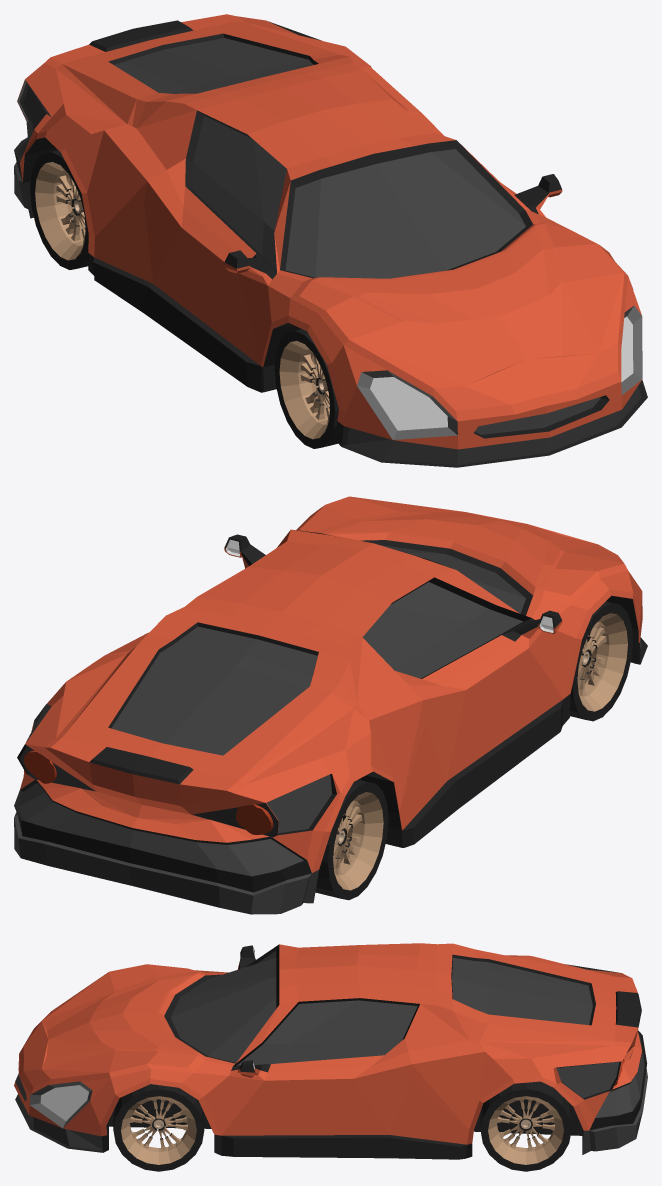
The model's file is alfaromeo33stradaleice.fbx.
The picture shows the model from 3 angles, top to bottom: view 1: azimuth 30°, elevation 25°; view 2: azimuth 150°, elevation 25°; view 3: azimuth 270°, elevation 25°; orthographic projection. The views are drawn at different scales.
Parts seen in each view (by area): view 1: RedBody, FrontRight, BackRight; view 2: RedBody, BackRight, FrontRight; view 3: RedBody, BackLeft, FrontLeft.
Boxes of the visible parts, x1,y1,x2,y2 form: RedBody: (14,14,647,467); FrontRight: (274,329,338,448); BackRight: (30,150,88,269); RedBody: (14,496,647,914); BackRight: (315,779,388,900); FrontRight: (570,601,632,721); RedBody: (14,943,647,1159); BackLeft: (480,1081,571,1171); FrontLeft: (113,1084,204,1171).
Size of the model in its own units: 2.08 by 4.6 by 1.22.
